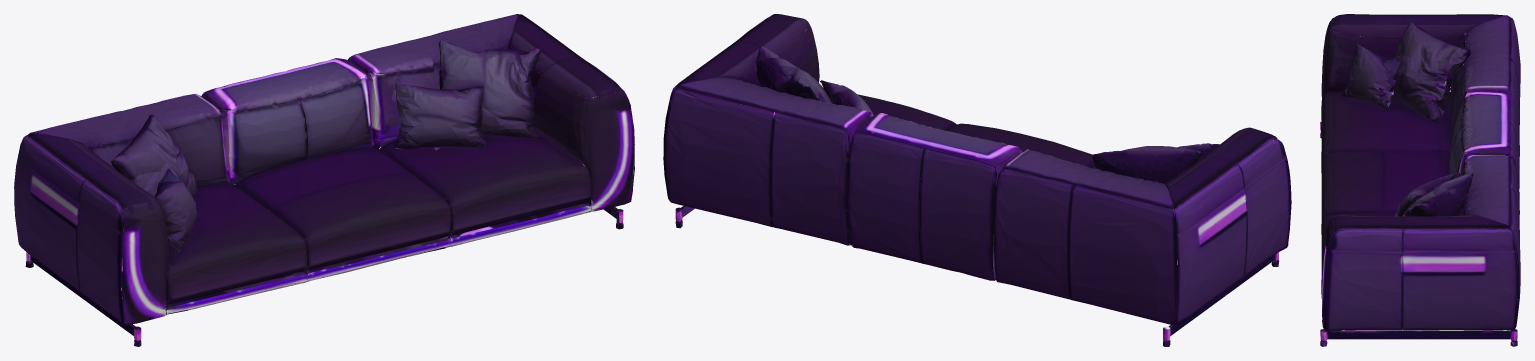
Rendered from edited_mesh.glb.
3 views of the same model, side by side, from view 1: azimuth 30°, elevation 25°; view 2: azimuth 150°, elevation 25°; view 3: azimuth 270°, elevation 25° (orthographic). The views are drawn at different scales.
Parts seen in each view (by area): view 1: solid_001_wire; view 2: solid_001_wire; view 3: solid_001_wire.
Part boxes in pixels (left/top/right/bottom): solid_001_wire: left=14, top=14, right=634, bottom=346; solid_001_wire: left=663, top=14, right=1291, bottom=346; solid_001_wire: left=1320, top=14, right=1520, bottom=346.
Size of the model in its own units: 2 by 0.5532 by 0.7635.
Materials: 1 (1 with a texture image).
